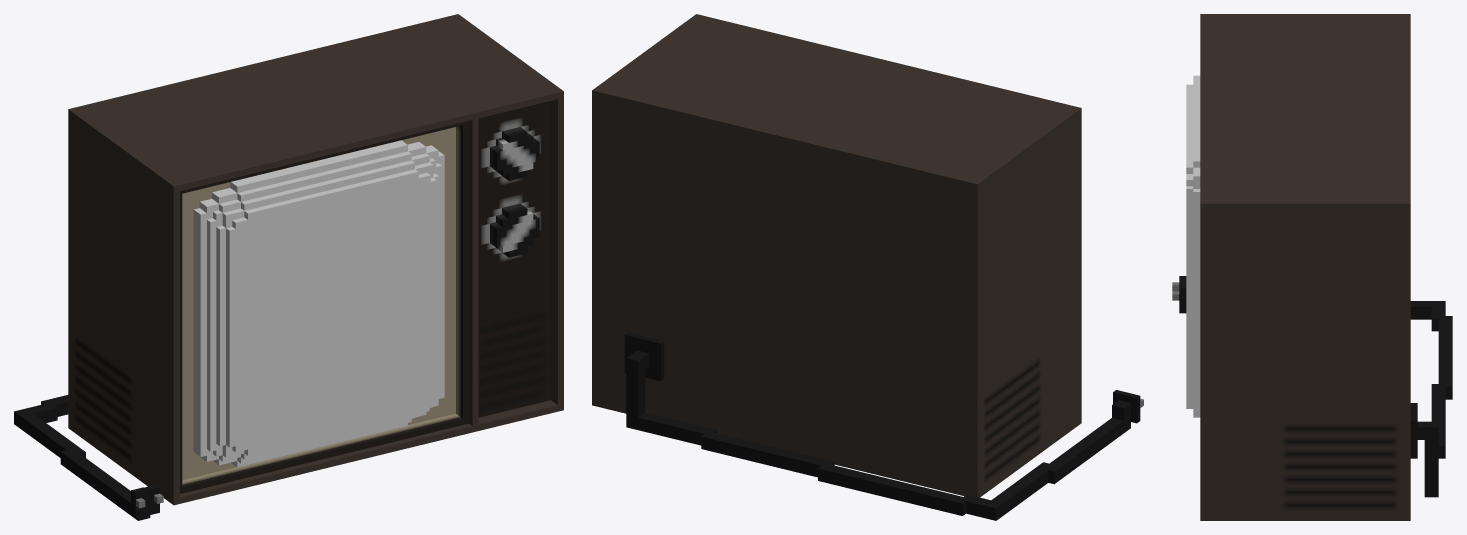
File: Exit01.fbx
The picture shows the model from 3 angles, left to right: view 1: azimuth 30°, elevation 25°; view 2: azimuth 150°, elevation 25°; view 3: azimuth 270°, elevation 25°; orthographic projection.
Parts seen in each view (by area): view 1: Matrix, object 2, Matrix_1; view 2: Matrix, Matrix_1; view 3: Matrix, object 2, Matrix_1.
Boxes of the visible parts, <box> form: Matrix: <box>68,14,563,505</box>; object 2: <box>193,140,444,467</box>; Matrix_1: <box>14,395,163,520</box>; Matrix: <box>592,14,1081,497</box>; Matrix_1: <box>624,332,1143,520</box>; Matrix: <box>1200,14,1410,520</box>; object 2: <box>1186,75,1200,417</box>; Matrix_1: <box>1172,276,1452,497</box>.
Size of the model in its own units: 72 by 50 by 40.
